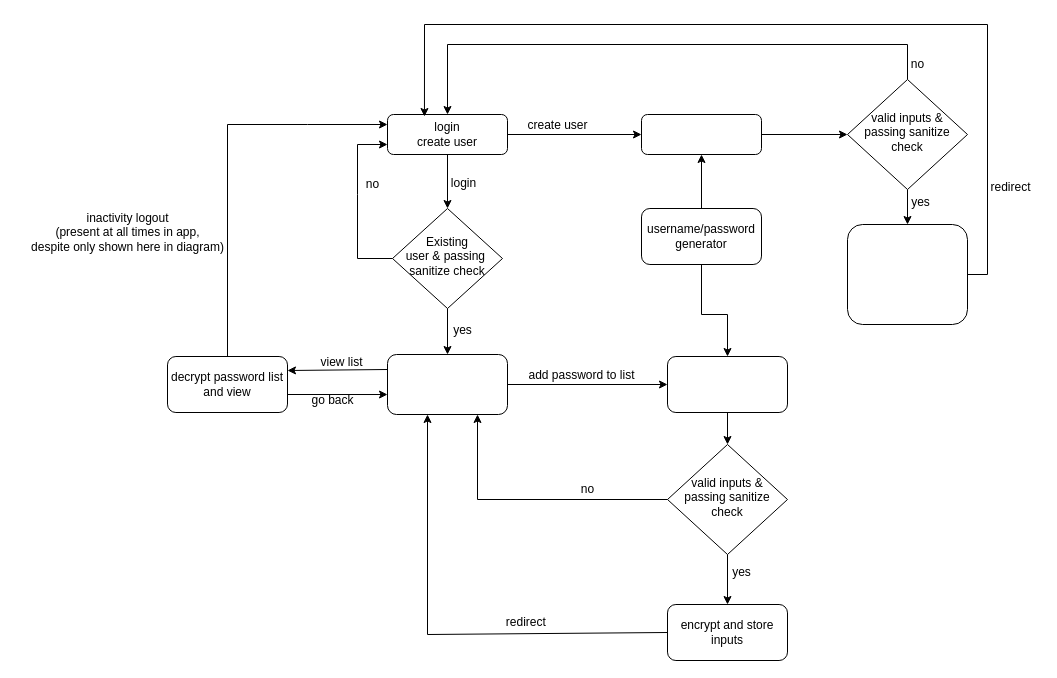
This 1057x678 diagram has some shape labels left out. The centre of each missing label's shape, as x and y in pixels:
add password to list view list: the point at 447,384
create user store hashed username and password, generate and store vault key: the point at 907,274
password manger inputs: the point at 727,384
username pasword: the point at 701,134
